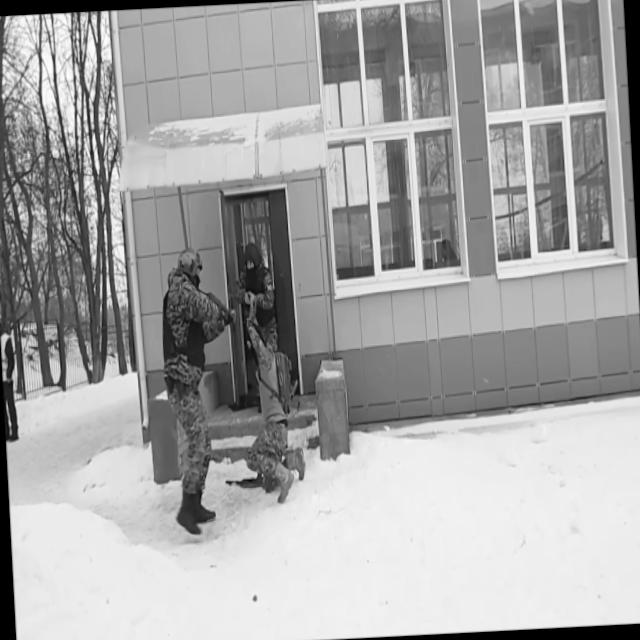gun: (196, 282, 237, 330), (224, 472, 274, 494)
person: (238, 288, 308, 507), (234, 241, 282, 417), (0, 317, 18, 442)
person with a gun: (157, 244, 247, 537)
